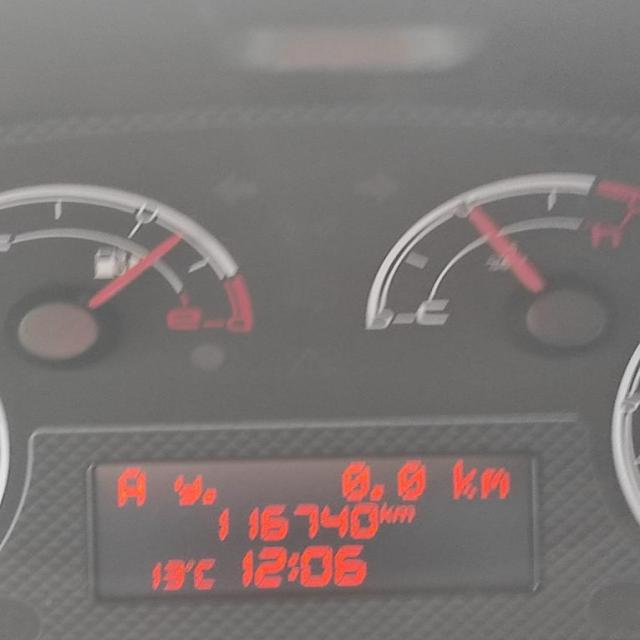odometer: (82, 445, 547, 608)
